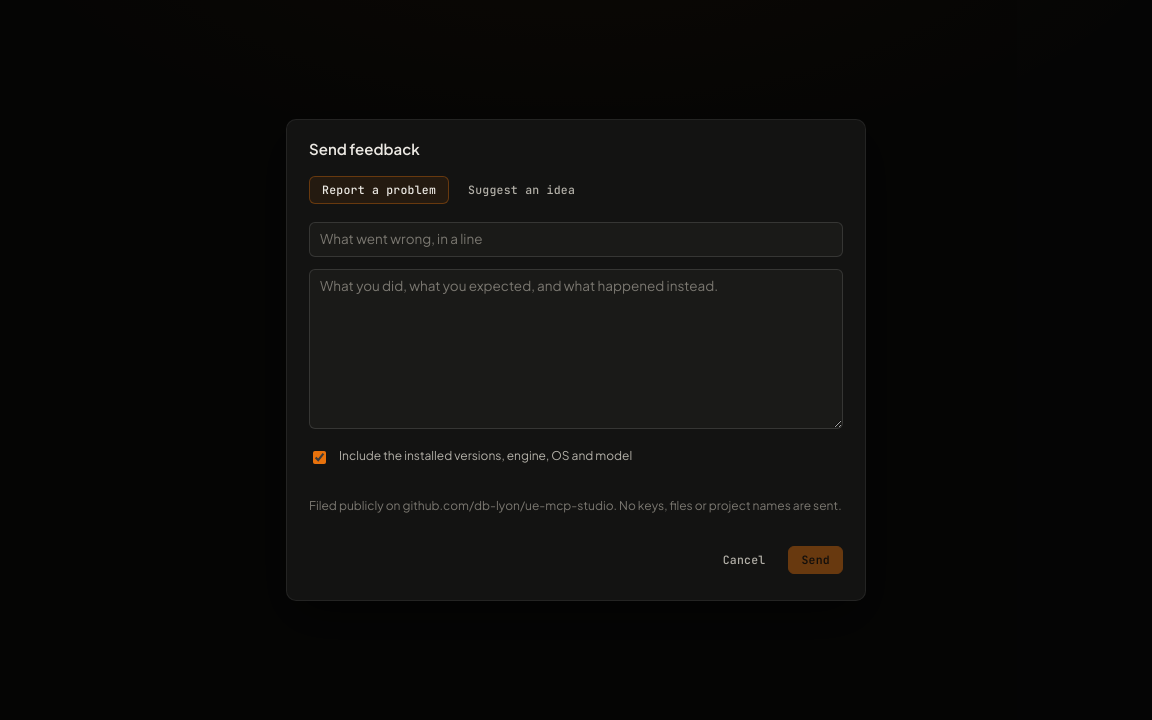
Test: feedback › opens the report on GitHub, filled in, when it could not be filed
Click the radio button labelled "Suggest an idea": (522, 190) [455,176,588,204]
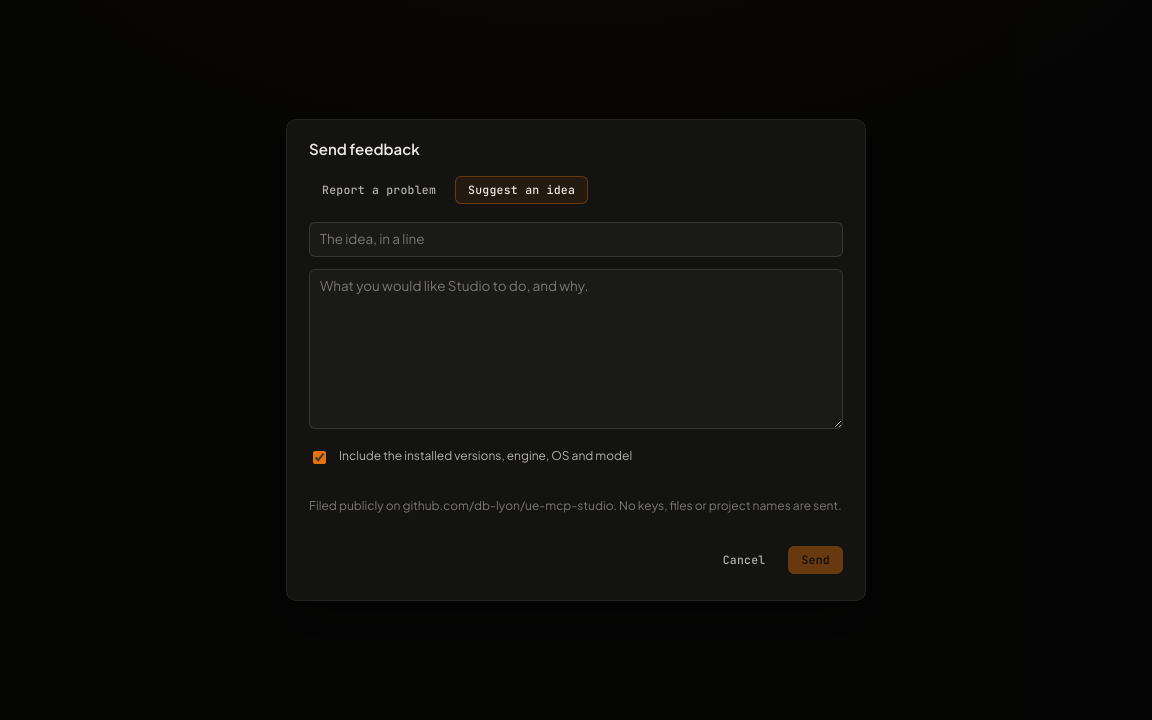
In the field named "Title": (576, 239) [309,222,843,257], type "Changes panel is blank"
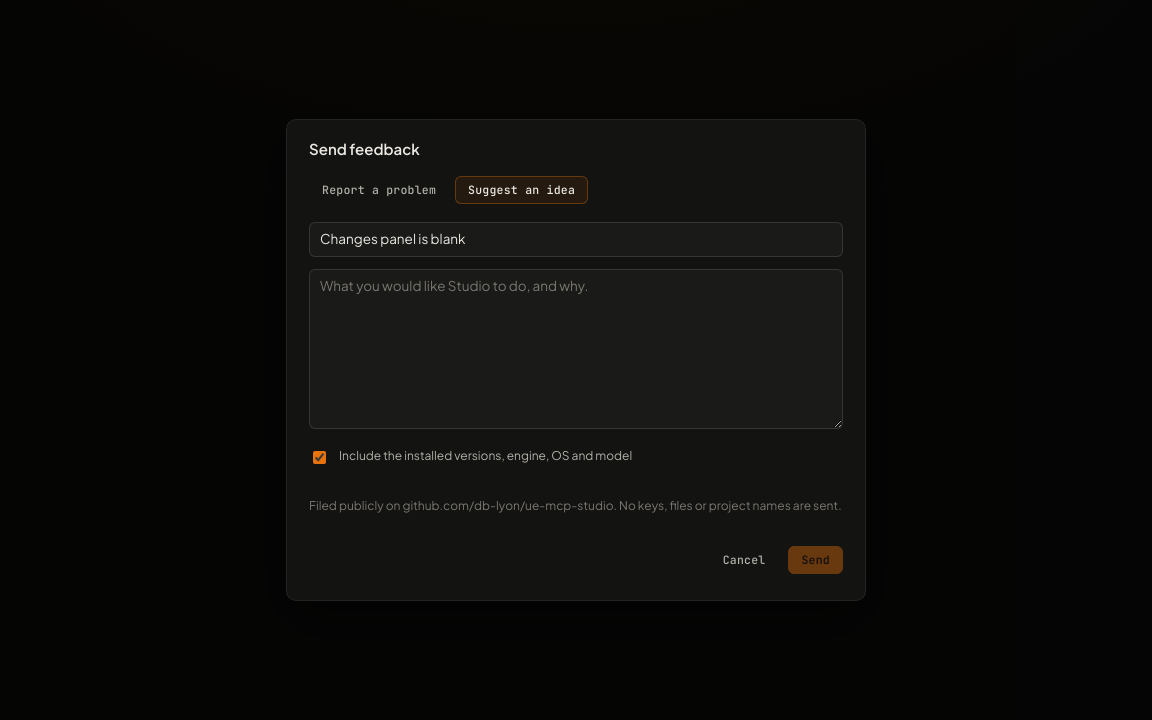
In the text box named "Description": (576, 349) [309,269,843,429], type "Clicking the Git chip opens an empty panel."
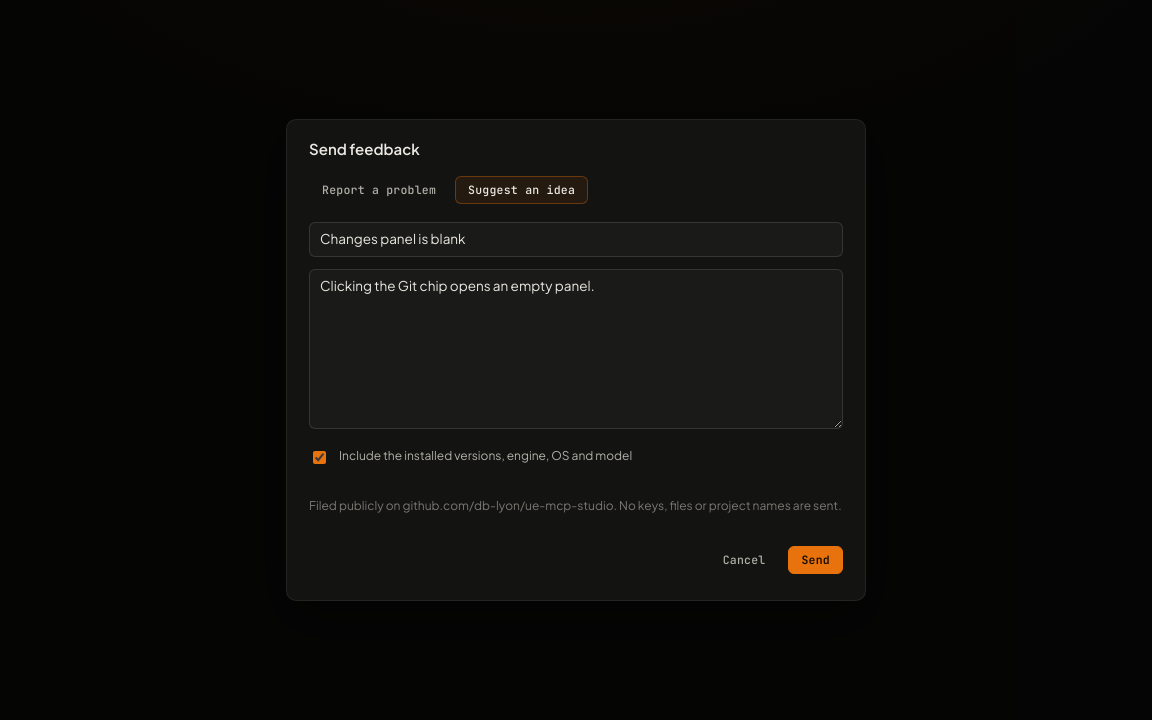
Click the checkbox: (320, 458) [313,451,326,464]
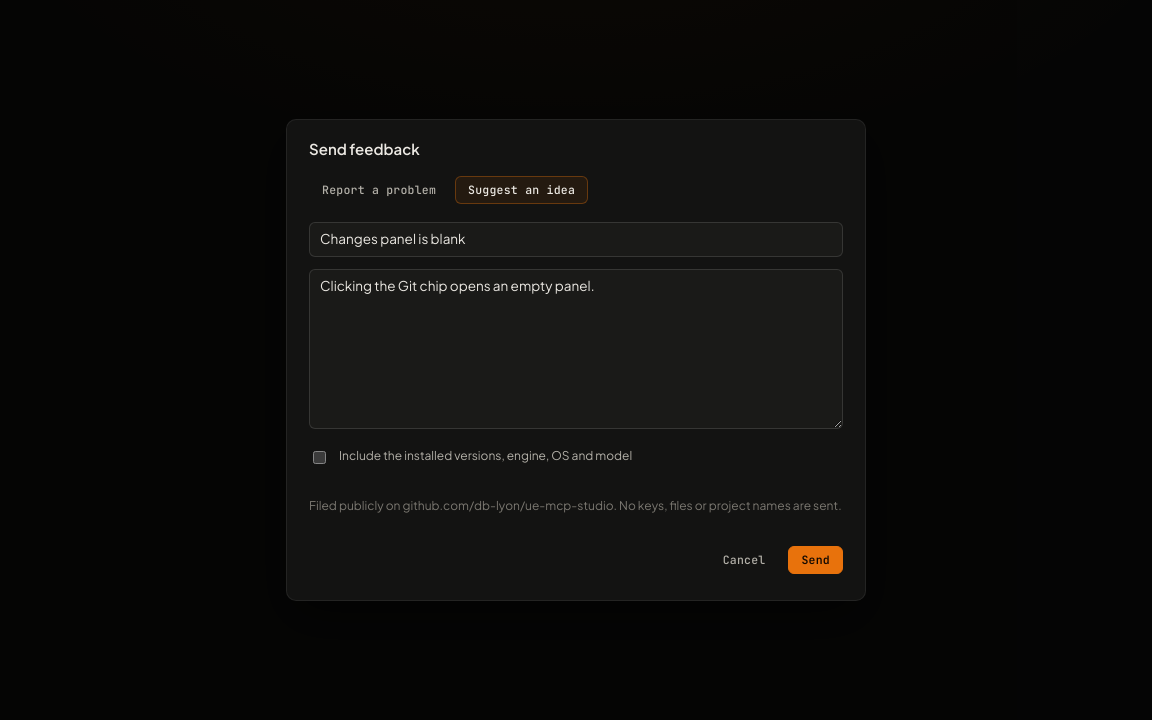
Click the button "Send": (816, 560) [788,546,843,574]
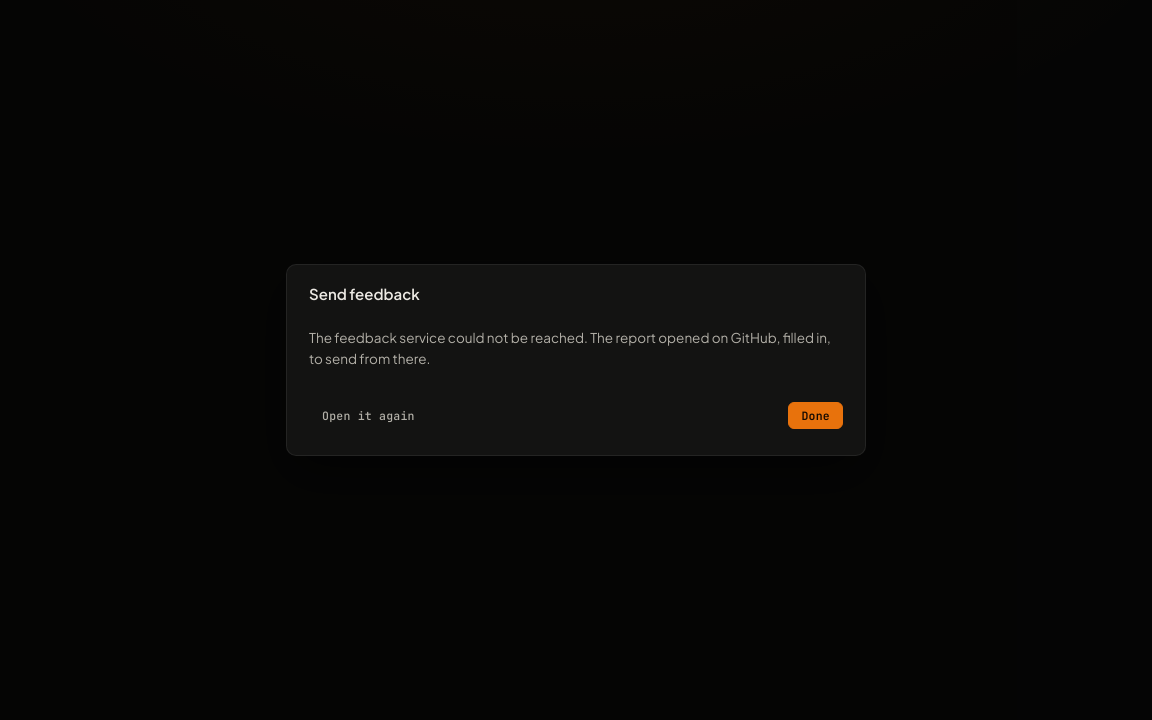
Expected: the text "could not be reached" is shown, [309,329,588,346]
